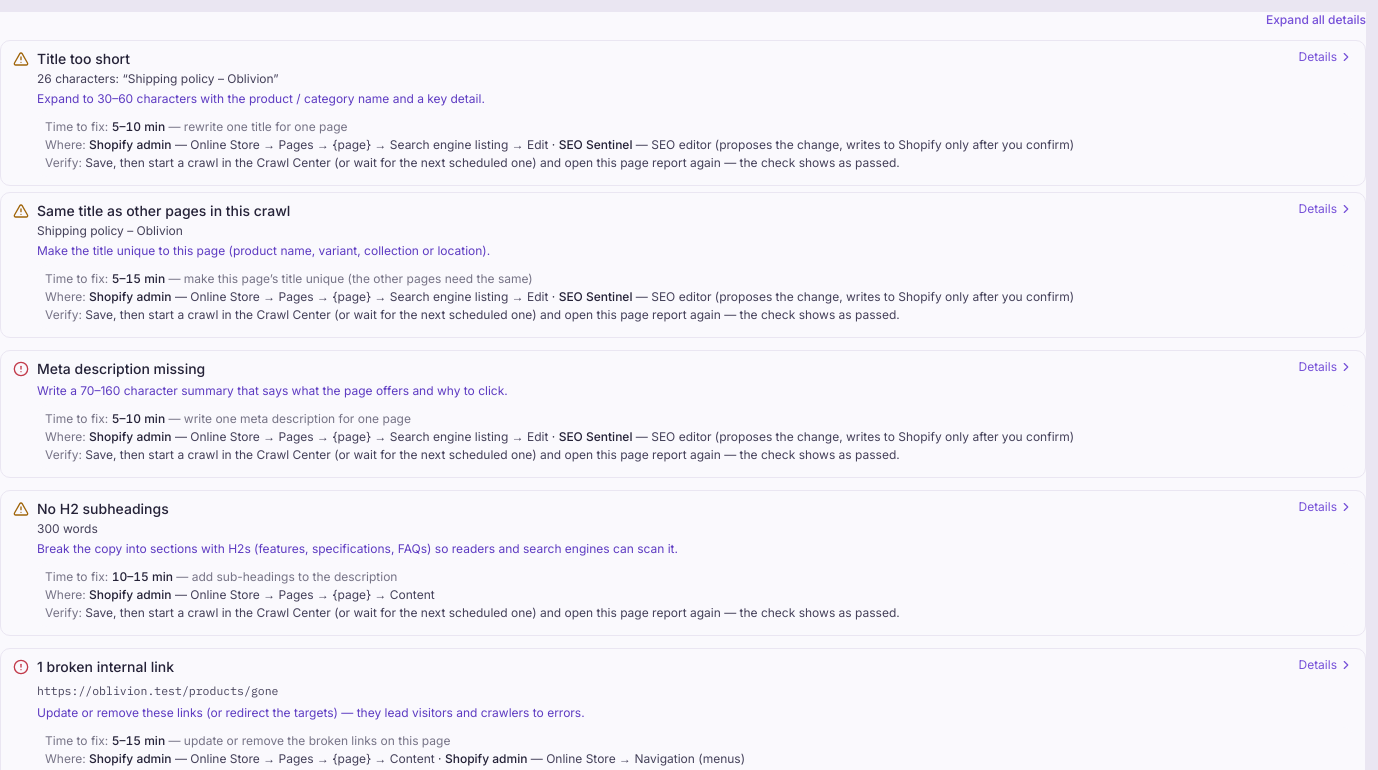
Test case: expandable issue details › duplicate title: the shared text, its length, every other page (clickable) and the crawl-wide count
What coordinates should you click on to do the following:
click the button with test id "details-toggle-title-duplicate"
I would click on:
 (164, 210)
Its box is [37,201,1353,221].
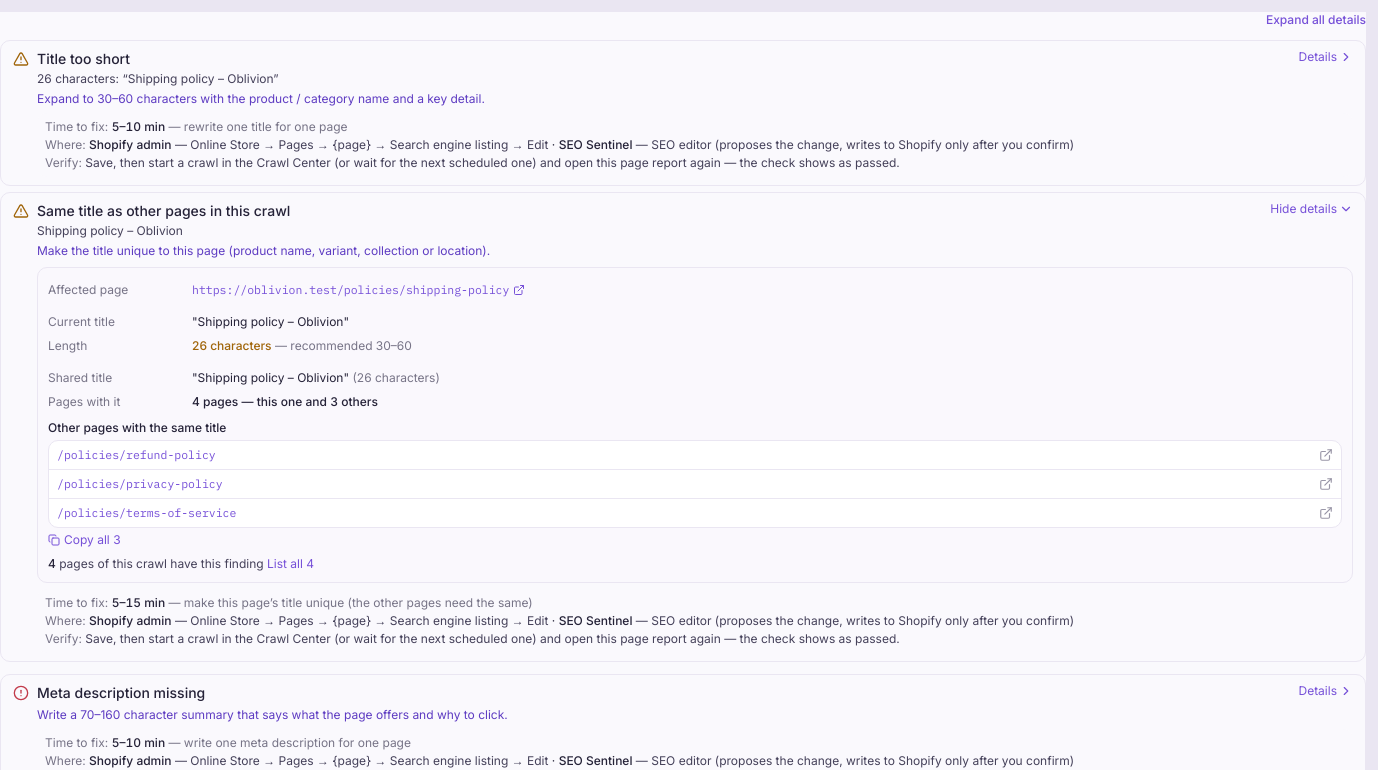
Expected: the element with test id "dup-title" shows "\"Shipping policy – Oblivion\" (26 characters)", [48,366,1342,548]
Expected: the element with test id "dup-title" shows "4 pages — this one and 3 others", [48,366,1342,548]
Expected: the element with test id "crawl-wide-title-duplicate" shows "4 pages of this crawl have this finding", [48,556,314,571]
